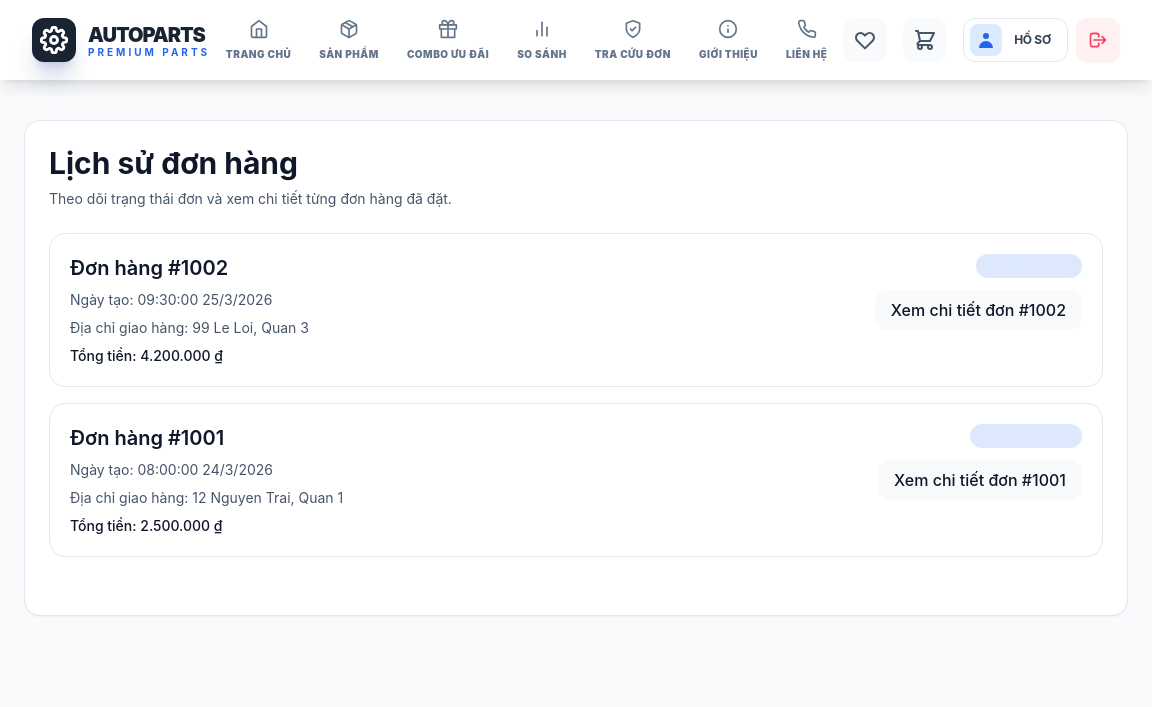
Test: OrderHistoryPage › renders order history newest-first and uses canonical order fields when expanding details
Expected: the heading "Lịch sử đơn hàng" is shown, [49,145,298,181]
Expected: the number of elements with test id "order-card" is 2, [49,233,1103,387]; [49,403,1103,557]
Step 1. Click the button "Xem chi tiết đơn #1002" → point(978, 310), box [875,290,1082,330]
(page scrolled)
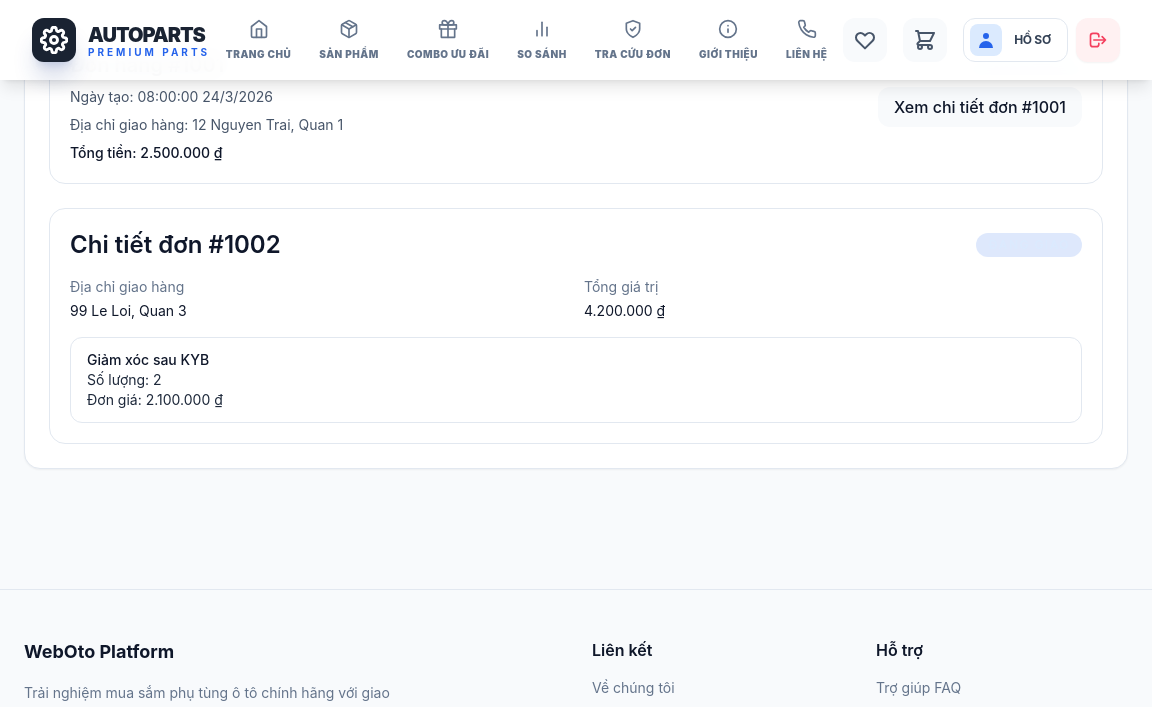
Result: the text "99 Le Loi, Quan 3" is shown at [70,302,187,319]
Result: the text "4.200.000 ₫" is shown at [584,302,665,319]
Result: the text "Giảm xóc sau KYB" is shown at [87,351,209,368]
